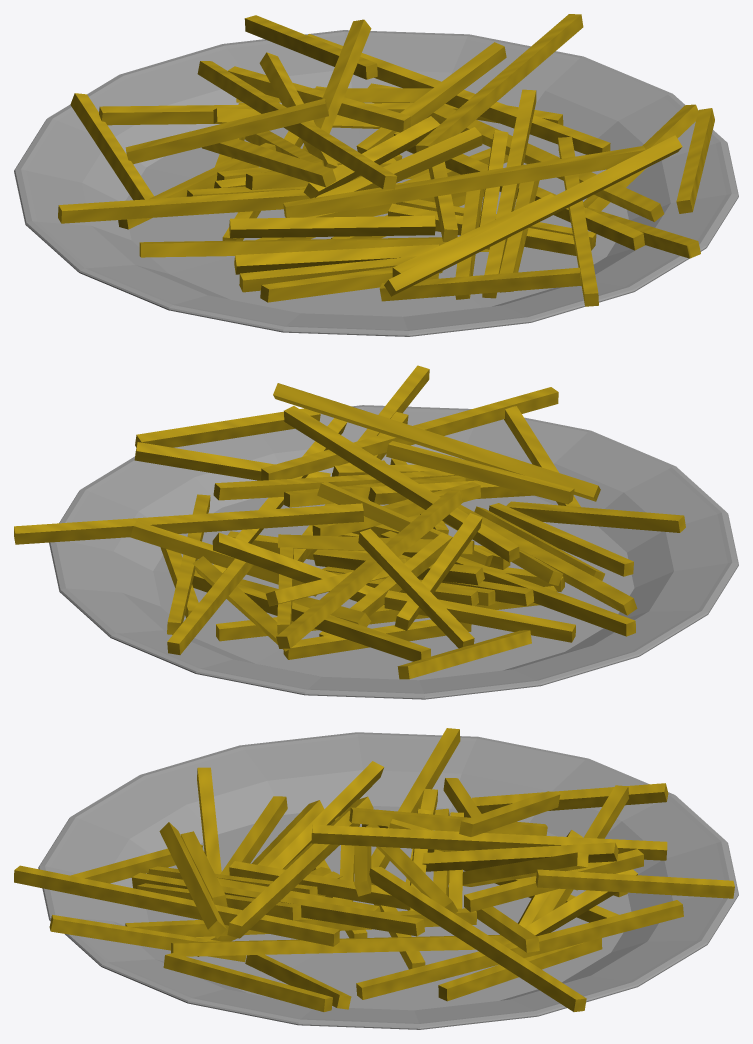
The model's file is MC_FriesExample.fbx.
The picture shows the model from 3 angles, top to bottom: view 1: azimuth 30°, elevation 25°; view 2: azimuth 150°, elevation 25°; view 3: azimuth 270°, elevation 25°; orthographic projection. The views are drawn at different scales.
Visible parts, largest first — view 1: Cube.063; view 2: Cube.063; view 3: Cube.063.
Part boxes in pixels (x1,y1,x2,y2): Cube.063: [14, 14, 738, 336]; Cube.063: [14, 365, 738, 699]; Cube.063: [14, 728, 738, 1029].
Size of the model in its own units: 272 by 46.44 by 282.
